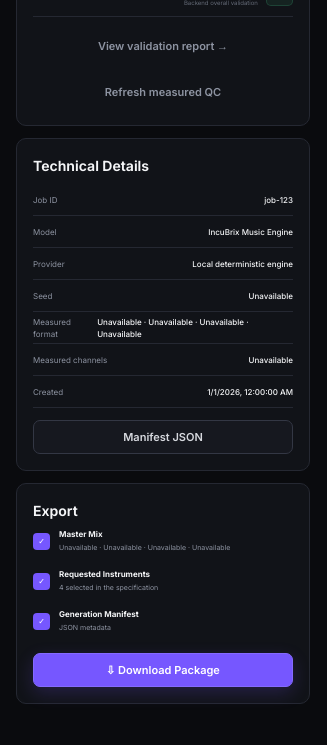
Test case: Studio Module 7 rendering › shows a clear error when the package download fails
(page scrolled)
Click the button "⇩ Download Package" at (163, 670), box x1=33 y1=653 x2=293 y2=687
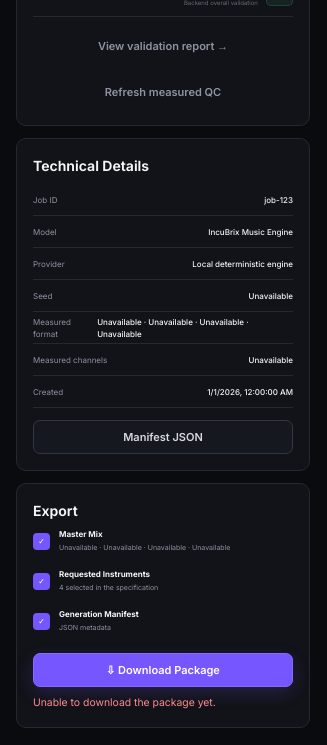
expect the text "Unable to download the package yet." is shown: met, box x1=33 y1=696 x2=216 y2=709
